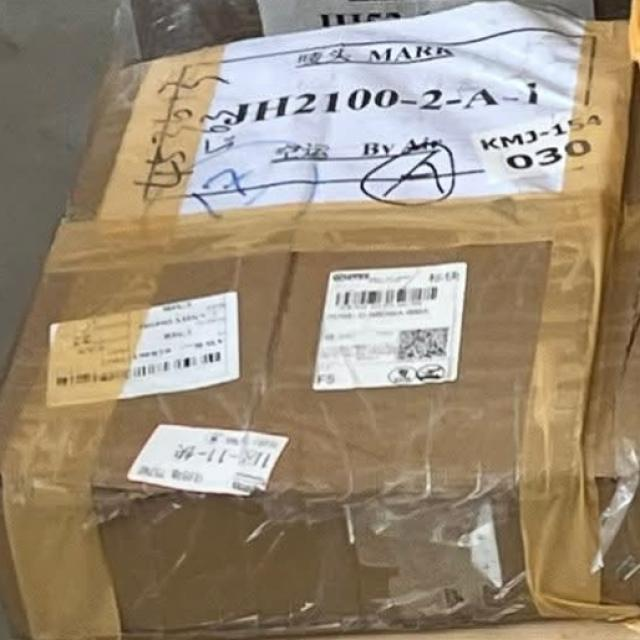carton_box: (0, 11, 640, 640)
export_mark_label: (148, 45, 592, 198), (320, 256, 487, 408), (36, 307, 242, 394)
package_damage: (74, 474, 210, 528)
